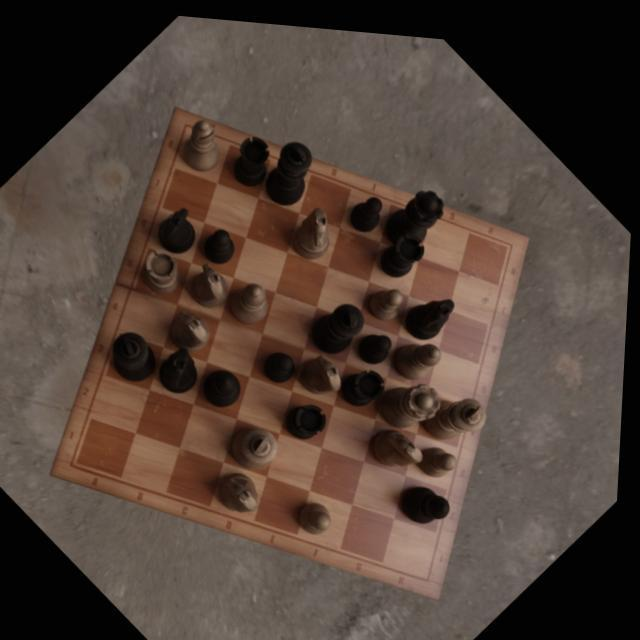chess-table-corners: (52, 429, 108, 486), (412, 546, 455, 592), (170, 104, 213, 149), (487, 220, 527, 260)
